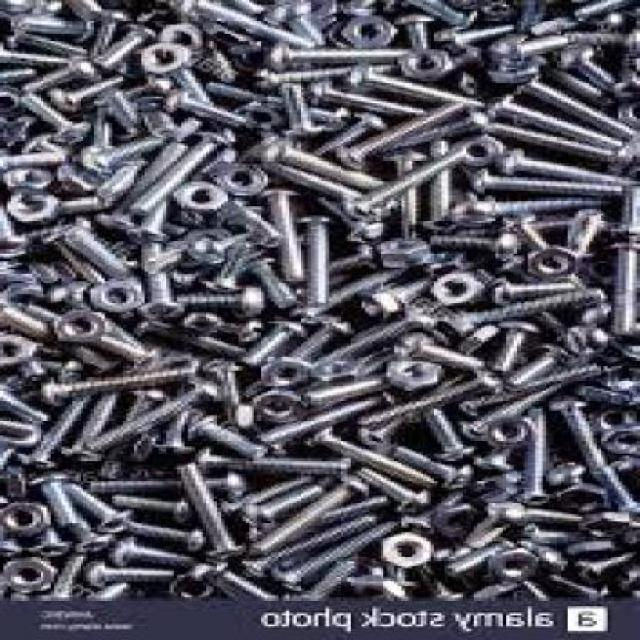METAL: (3, 0, 639, 600), (304, 432, 448, 506), (79, 384, 213, 462), (557, 392, 638, 506), (134, 128, 235, 218), (242, 512, 380, 577), (257, 472, 372, 550), (276, 517, 402, 588), (90, 380, 167, 483), (257, 132, 383, 191), (517, 72, 637, 133), (492, 91, 630, 144), (181, 458, 253, 557), (340, 103, 452, 166), (351, 151, 458, 215), (481, 122, 636, 166), (260, 494, 394, 543), (18, 389, 98, 469), (47, 364, 195, 404), (184, 0, 318, 43), (347, 61, 488, 101), (466, 168, 639, 200), (395, 328, 510, 372), (68, 382, 130, 462), (90, 468, 250, 498), (217, 444, 361, 474), (260, 58, 402, 88), (358, 465, 434, 517), (268, 184, 308, 281), (271, 42, 409, 70), (228, 470, 318, 512), (423, 402, 482, 463), (249, 481, 329, 525), (167, 88, 253, 128), (300, 213, 337, 305), (322, 191, 390, 240), (111, 534, 202, 568), (72, 225, 131, 277), (79, 478, 135, 532), (246, 317, 311, 363), (83, 559, 177, 590), (28, 53, 106, 90), (293, 557, 365, 597), (68, 497, 120, 552), (293, 315, 358, 359), (173, 287, 272, 315), (102, 20, 163, 65), (213, 562, 285, 600), (362, 274, 430, 314), (198, 245, 257, 289), (430, 231, 524, 258), (36, 469, 79, 528), (492, 315, 538, 370), (271, 0, 329, 43), (328, 13, 406, 44), (15, 13, 100, 41), (214, 159, 278, 196), (190, 418, 268, 448), (112, 492, 198, 519), (144, 261, 184, 319), (119, 519, 213, 543), (278, 83, 324, 132), (383, 528, 439, 568), (433, 270, 489, 310), (528, 242, 586, 280), (256, 386, 312, 425), (3, 554, 62, 591), (488, 545, 543, 584), (507, 207, 553, 253), (14, 184, 69, 222), (101, 158, 148, 202), (618, 234, 638, 334), (575, 546, 633, 580), (567, 199, 604, 252), (560, 45, 611, 83), (144, 37, 196, 74), (4, 501, 54, 539), (488, 501, 582, 521), (57, 306, 112, 340), (188, 224, 234, 264), (553, 483, 612, 514), (148, 240, 203, 272), (498, 279, 578, 301), (4, 384, 50, 422), (177, 178, 235, 208), (390, 358, 448, 388), (371, 233, 427, 264), (11, 298, 54, 337), (98, 276, 144, 312), (463, 316, 506, 353), (509, 0, 565, 28), (460, 132, 506, 166), (408, 0, 486, 20), (3, 164, 59, 191), (264, 356, 314, 386), (159, 20, 210, 49), (564, 326, 610, 357), (3, 328, 40, 366), (7, 45, 84, 63), (48, 278, 94, 308), (593, 400, 639, 429), (69, 0, 134, 20), (603, 425, 639, 460), (496, 413, 538, 441), (564, 532, 622, 552), (182, 308, 228, 332), (578, 0, 638, 18), (603, 362, 639, 391), (553, 455, 590, 483), (174, 573, 217, 595), (405, 13, 430, 47), (336, 0, 395, 14), (528, 528, 574, 543), (3, 65, 40, 83), (480, 0, 513, 18), (3, 0, 44, 12)
